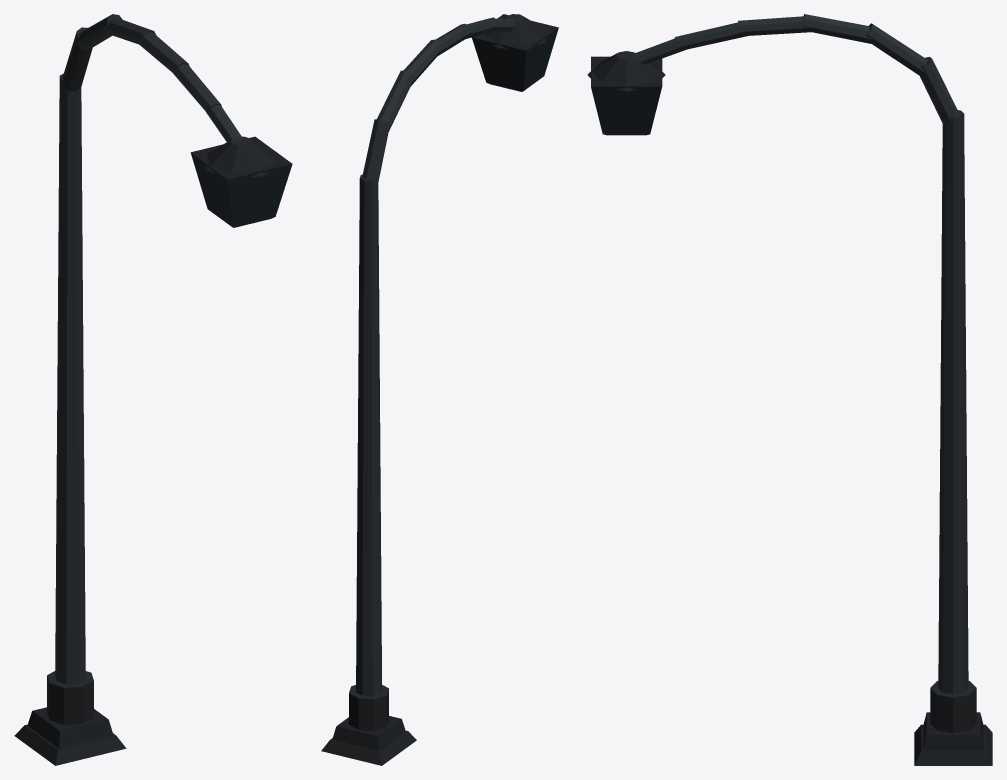
Rendered from lp_street_lamp.glb.
3 views of the same model, side by side, from view 1: azimuth 30°, elevation 25°; view 2: azimuth 150°, elevation 25°; view 3: azimuth 270°, elevation 25° (orthographic). The views are drawn at different scales.
Visible parts, largest first — view 1: lp_street_lamp; view 2: lp_street_lamp; view 3: lp_street_lamp.
Boxes of the visible parts, box(x1,y1,x2,y2) form: lp_street_lamp: box(14, 14, 292, 765); lp_street_lamp: box(321, 14, 558, 765); lp_street_lamp: box(587, 14, 992, 765).
Size of the model in its own units: 0.44 by 4.54 by 2.27.
Materials: 1 (1 with a texture image).
